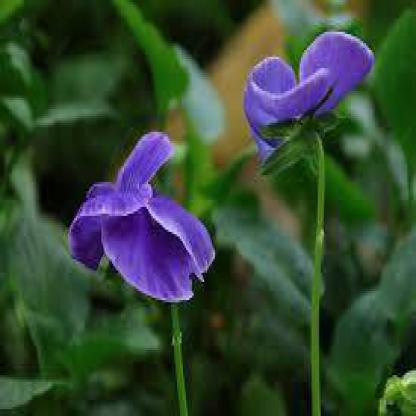Kupu-Kupu: (81, 142, 213, 301), (257, 26, 367, 183)
